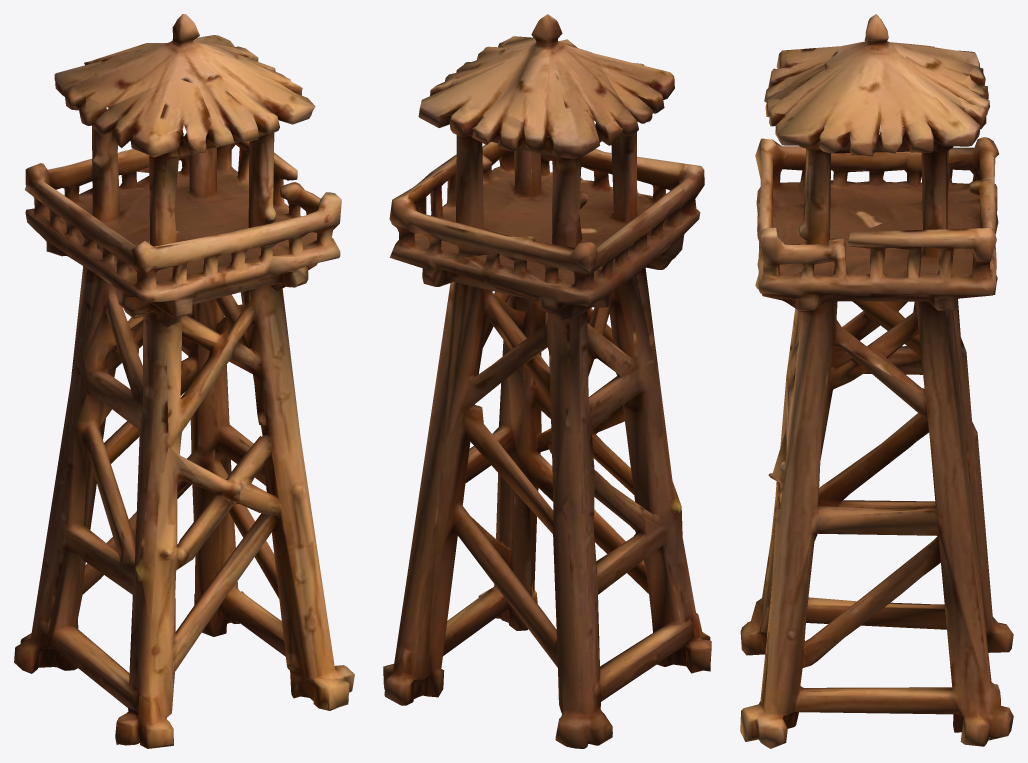
The model's file is watchtower.glb.
3 views of the same model, side by side, from view 1: azimuth 30°, elevation 25°; view 2: azimuth 150°, elevation 25°; view 3: azimuth 270°, elevation 25° (orthographic). The views are drawn at different scales.
Parts seen in each view (by area): view 1: tripo_node_d9859cd9; view 2: tripo_node_d9859cd9; view 3: tripo_node_d9859cd9.
Boxes of the visible parts, x1,y1,x2,y2 form: tripo_node_d9859cd9: (14,14,354,748); tripo_node_d9859cd9: (383,14,711,748); tripo_node_d9859cd9: (740,14,1013,748).
Size of the model in its own units: 36.33 by 99.67 by 36.44.
1 material, 1 textured.
